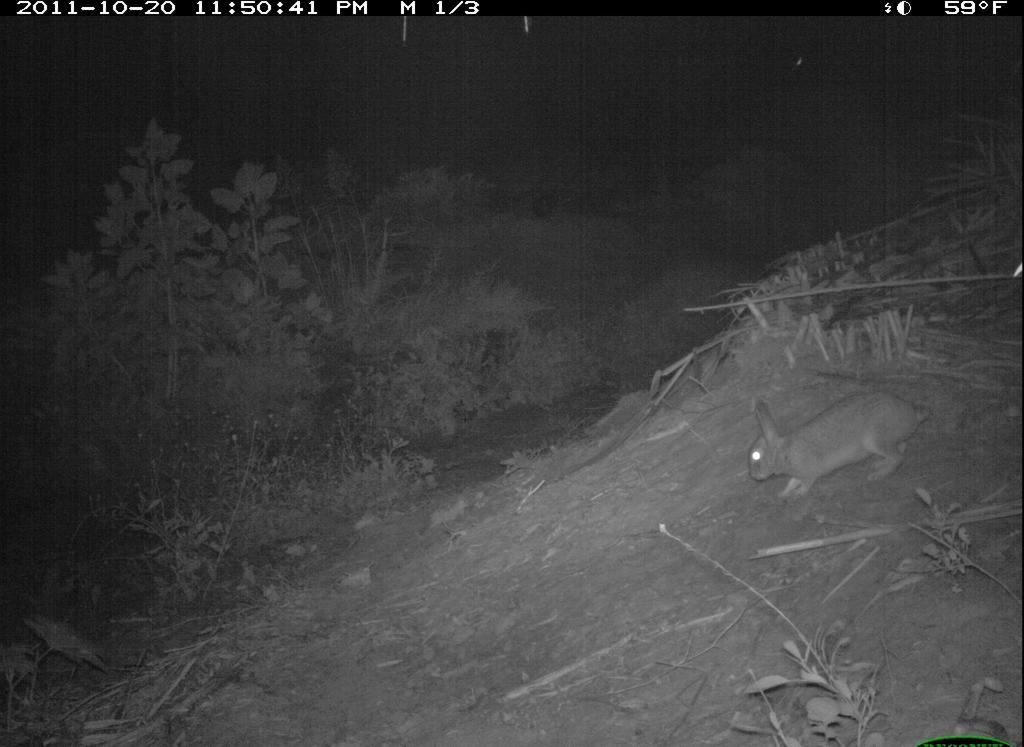rabbit: (740, 381, 945, 504)
